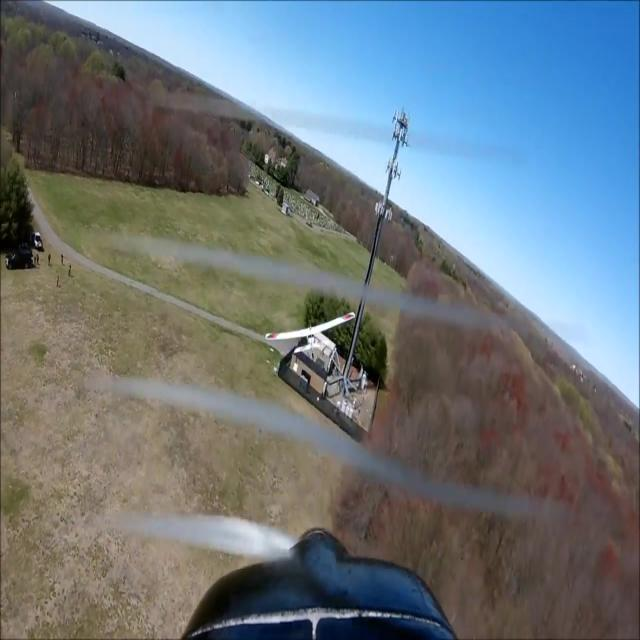iha: (297, 311, 324, 355)
